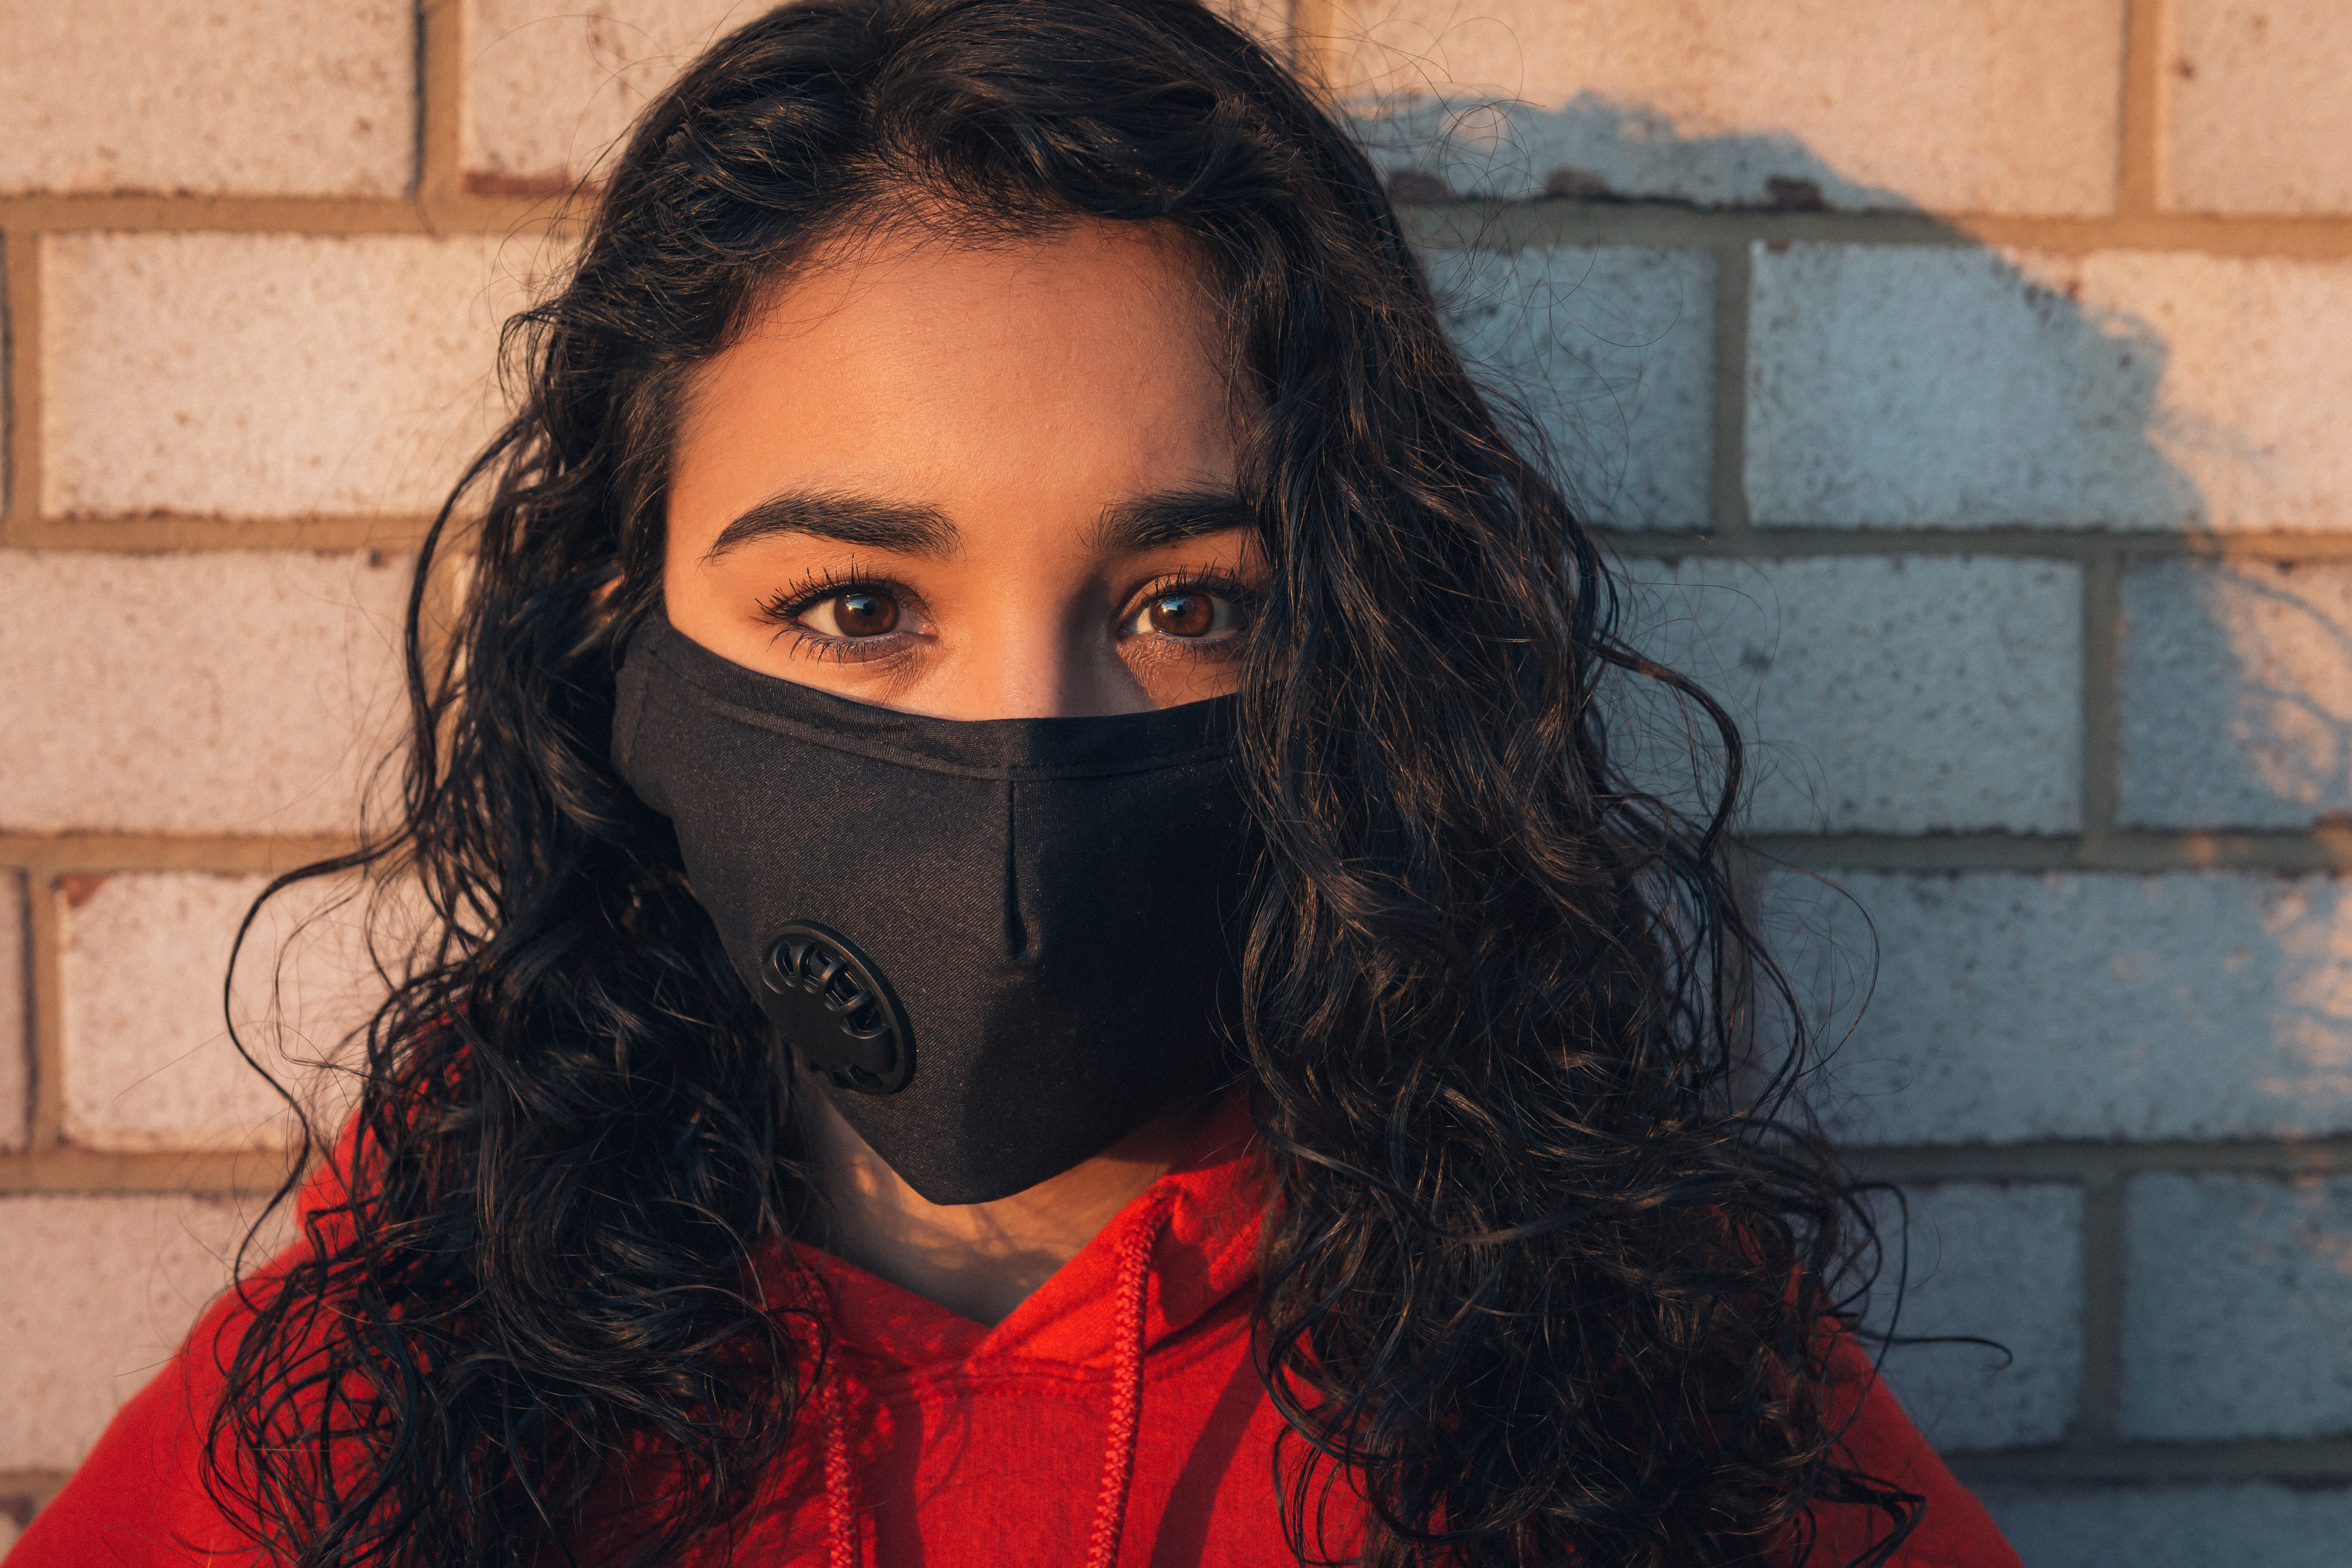mask: (599, 628, 1290, 1217)
person: (146, 11, 1990, 1568)
